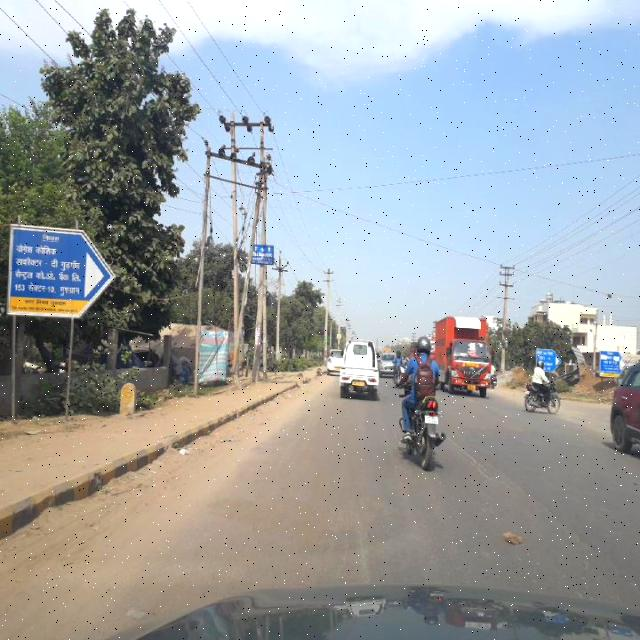D00: (452, 440, 590, 545)
